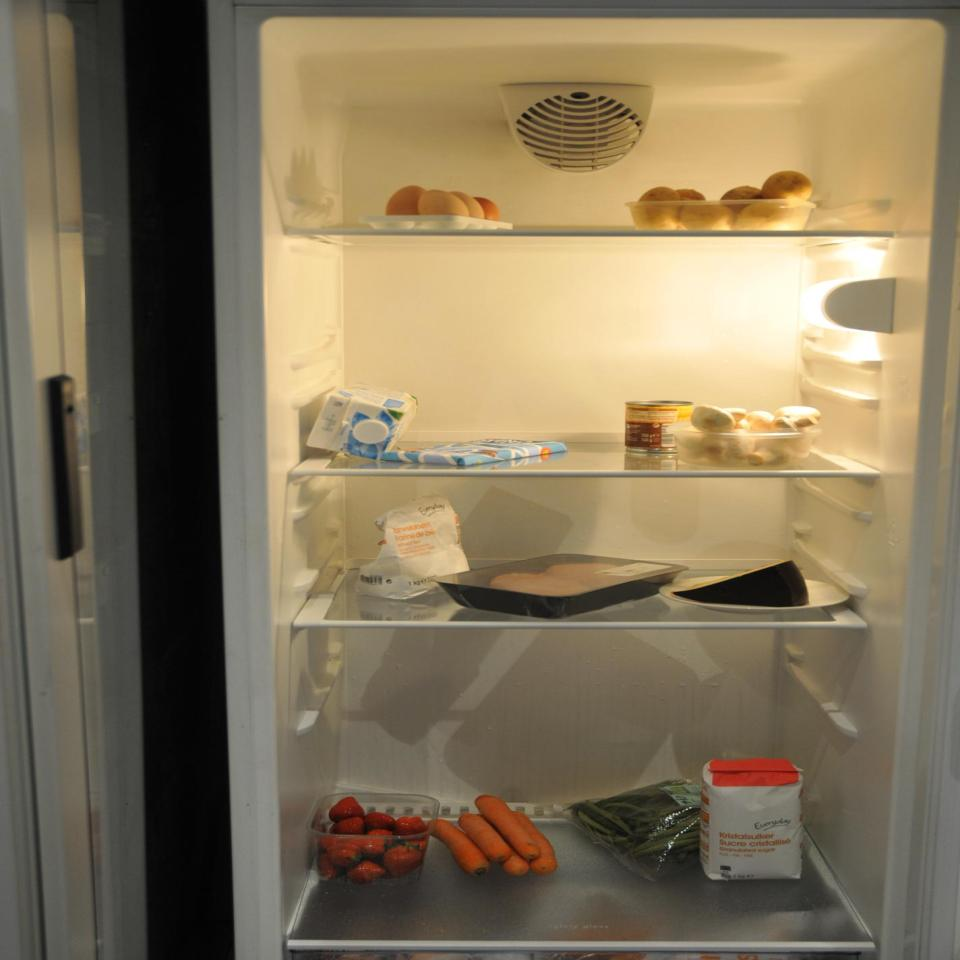Carne pollo: (483, 558, 638, 608)
Huevos: (380, 183, 502, 229)
Leche: (300, 386, 420, 458)
Queso: (668, 559, 812, 608)
Zanahoria: (424, 794, 562, 877)
strawberries: (309, 794, 431, 885)
